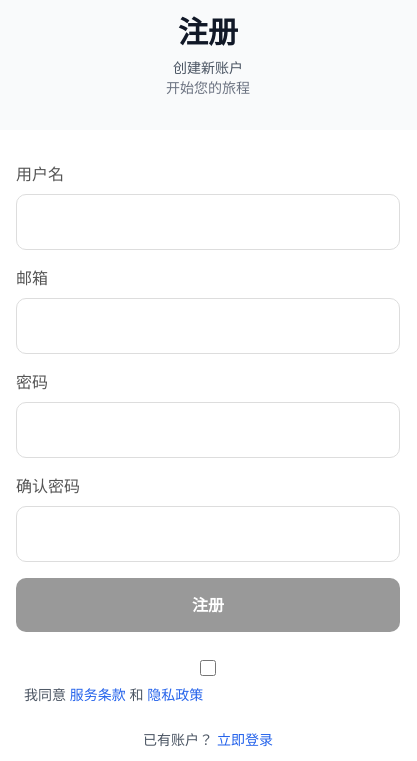
RegisterPage › Form Validation › should integrate with RegisterForm validation
The image size is (417, 761).
# Accept terms to enable register button
Click the checkbox labelled "我同意 服务条款 和 隐私政策" at (208,668), box [16, 660, 400, 676]
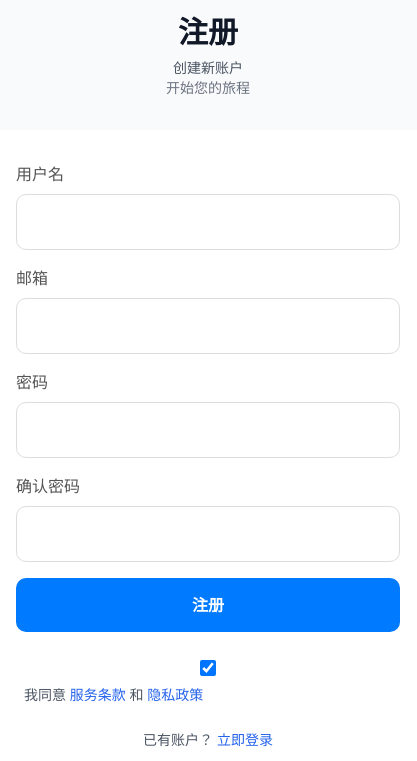
Click the button "注册" at (208,605), box [16, 578, 400, 632]
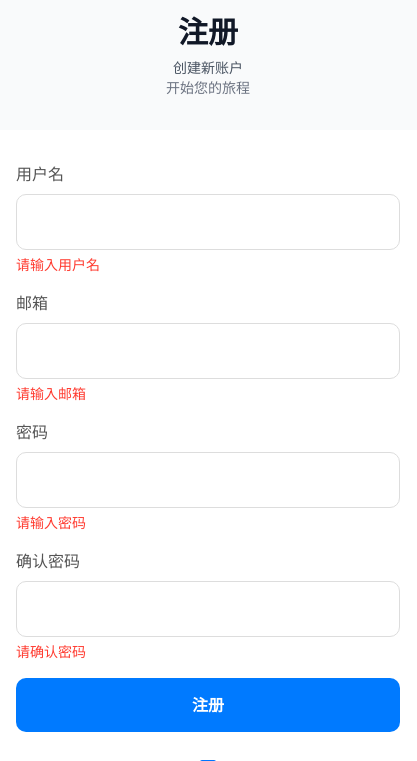
expect the text "请输入用户名" is shown: met, box [16, 256, 100, 273]
